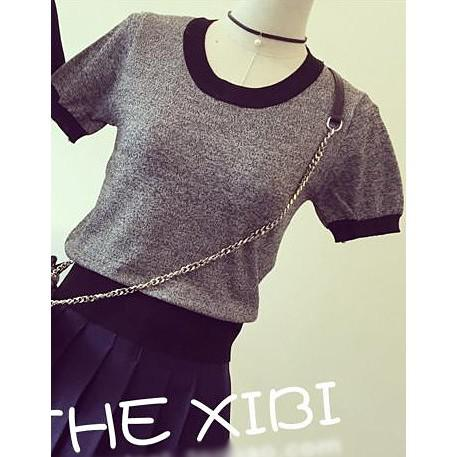Skirts: (50, 261, 244, 457)
Tops: (53, 15, 401, 321)
